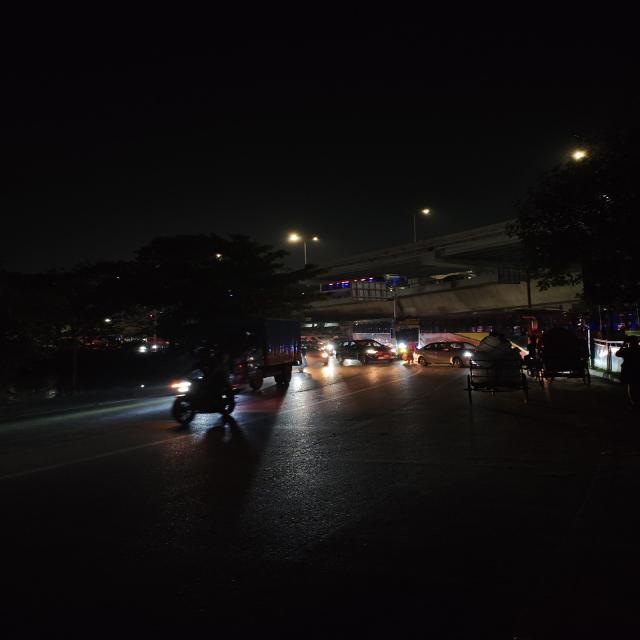car: (332, 338, 396, 368), (411, 339, 474, 369), (302, 344, 332, 368)
motorcycle: (159, 347, 250, 432)
pedestrian: (614, 331, 640, 425)
rickshaw: (462, 332, 534, 400), (530, 326, 597, 386)
truck: (245, 318, 304, 387)
